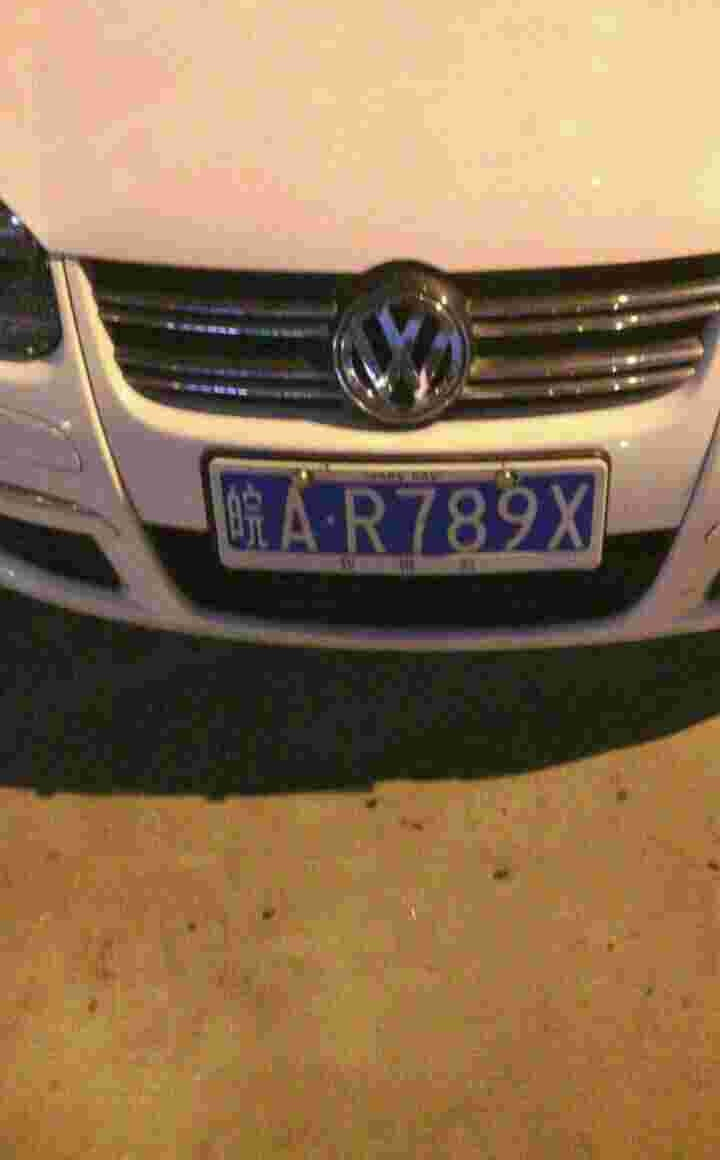license_plate: (209, 467, 610, 561)
